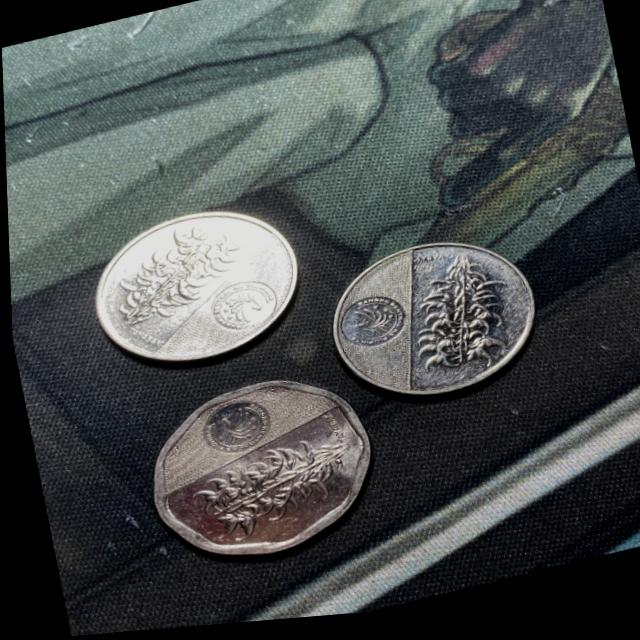5_New_Back: (192, 439, 362, 545), (392, 247, 513, 388), (103, 220, 246, 329)
